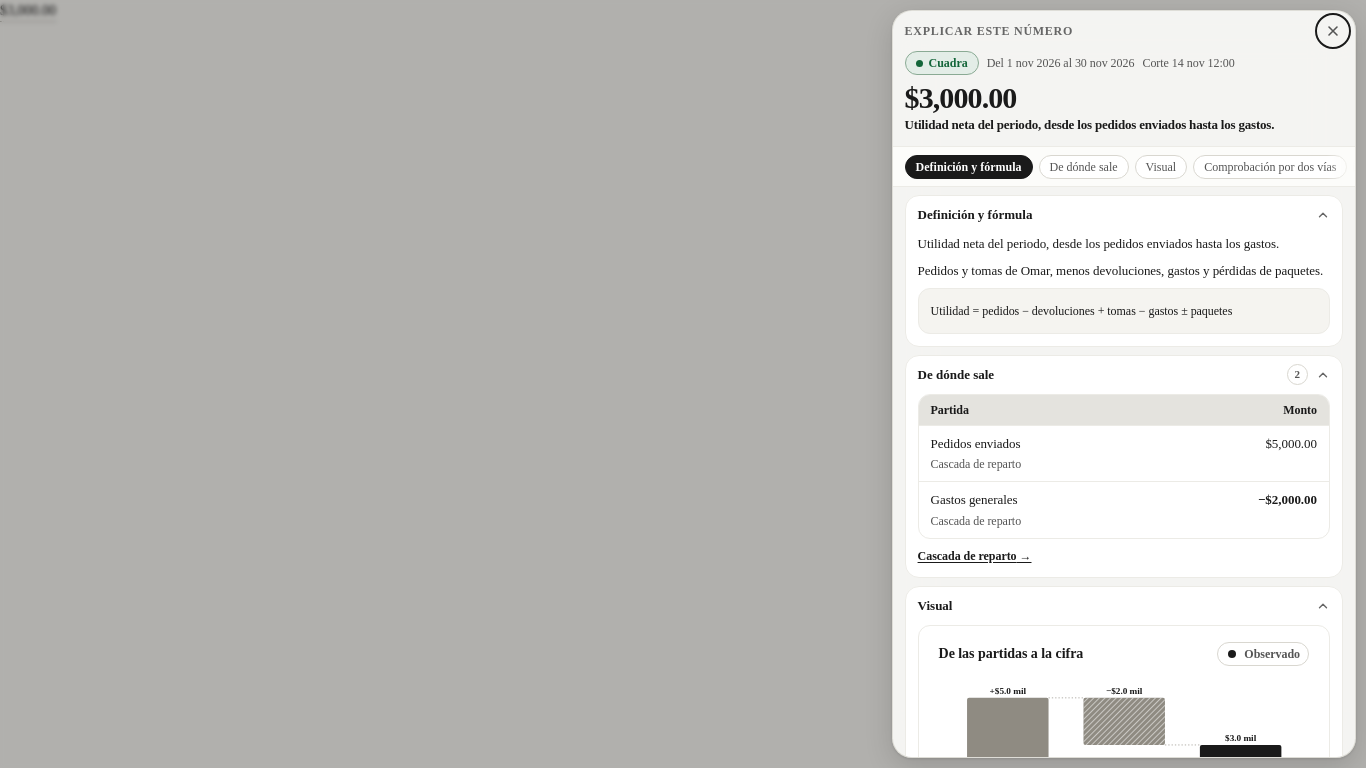
Test: ExplicarProvider (panel premium) › cada recuadro abre y cierra con su boton
Earlier steps of the test are not shown.
Later steps or results of the test are not shown.
Click the 3rd button with class "xp-seccion-b" at (935, 605), box [906,586,1342,624]
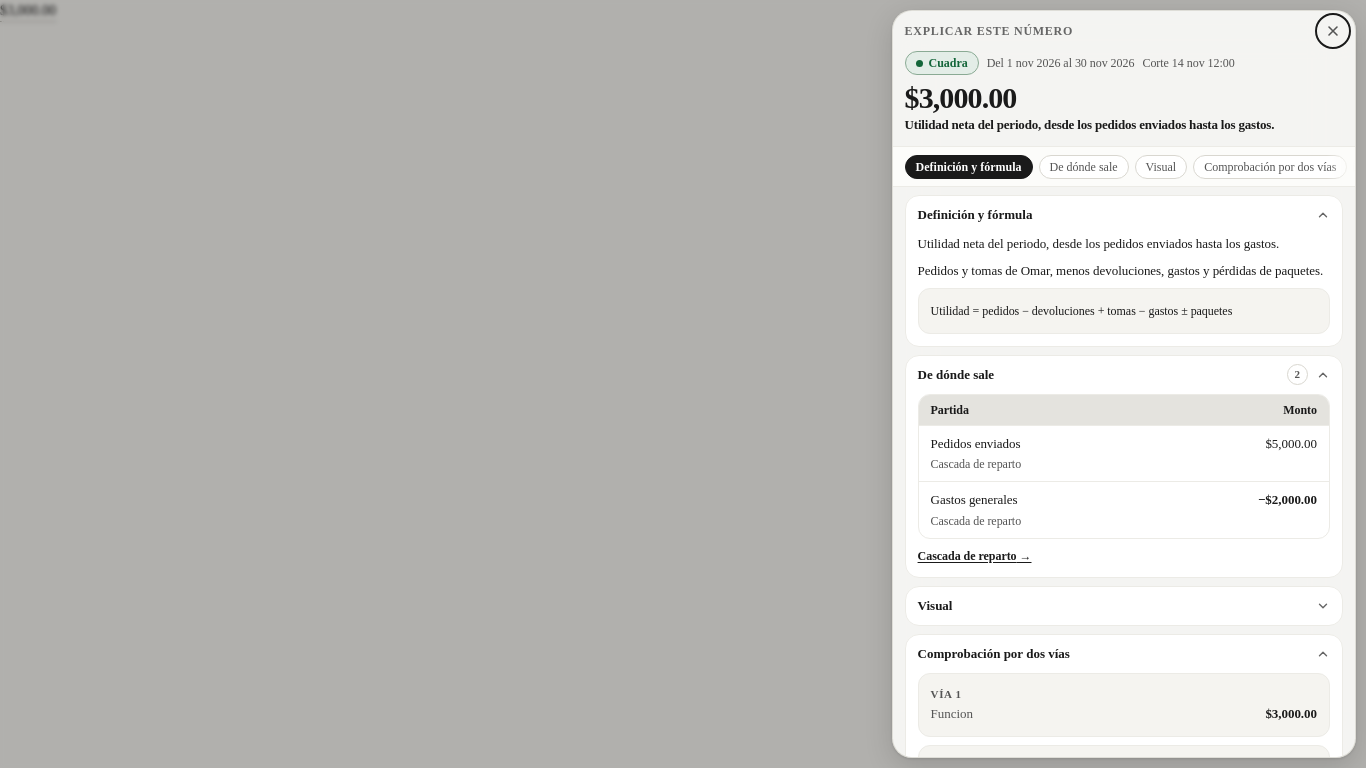
Expected: the 2nd button with class "xp-seccion-b" is collapsed, [906,586,1342,624]
Click the 4th button with class "xp-seccion-b" at (994, 653), box [906,634,1342,672]
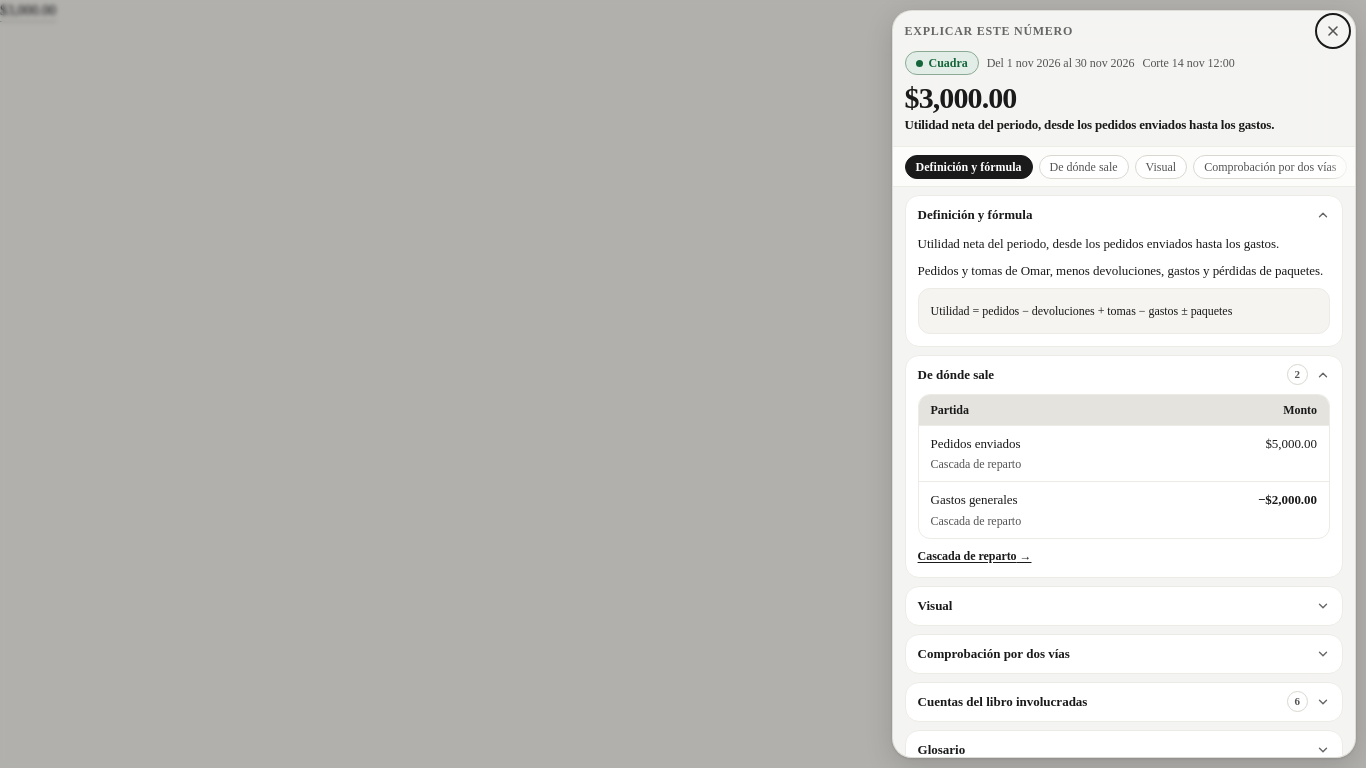
Expected: the 2nd button with class "xp-seccion-b" does not have attribute aria-expanded="true"
Click the 4th button with class "xp-seccion-b" at (994, 653), box [906,634,1342,672]
(page scrolled)
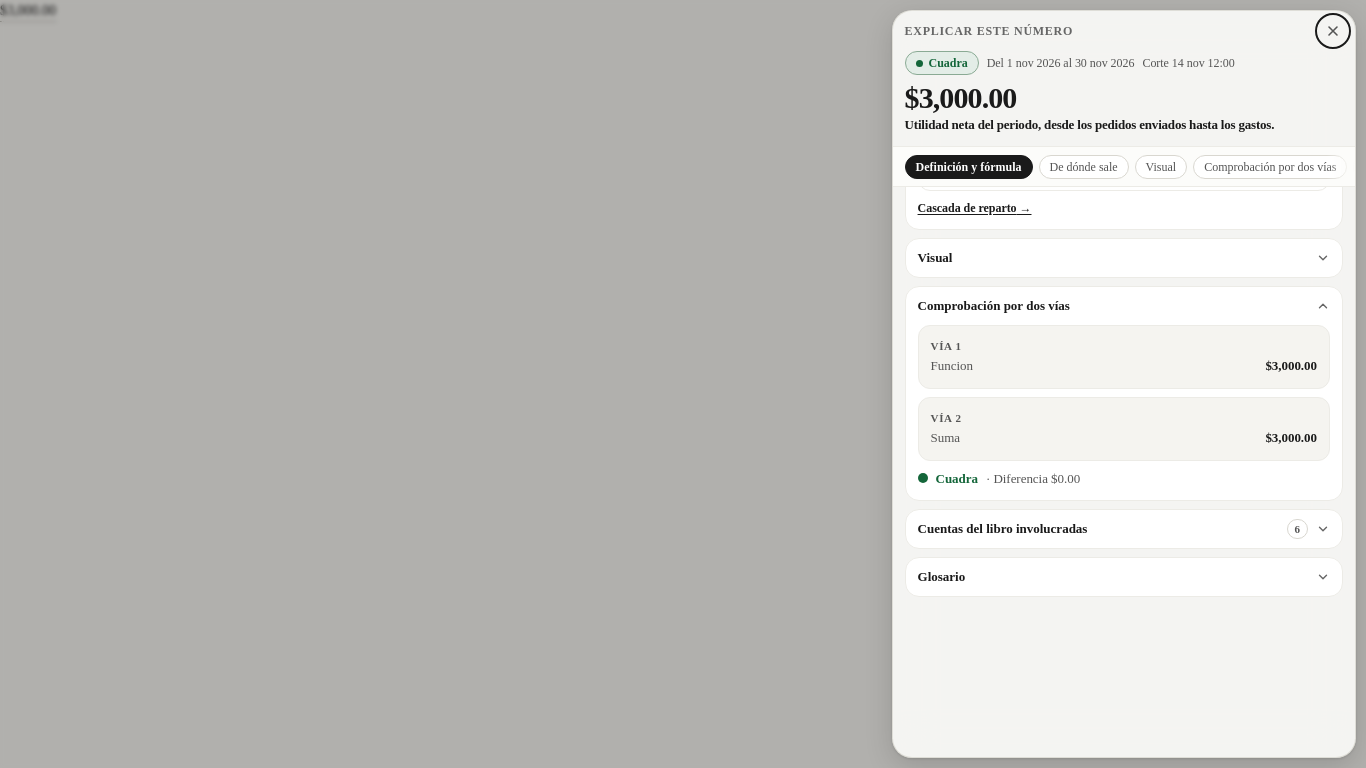
Expected: the 2nd button with class "xp-seccion-b" is expanded, [906,286,1342,324]
Click the button with class "xp-seccion-b" that starts with "Cuentas del libro involucradas" at (1002, 529), box [906,510,1342,548]
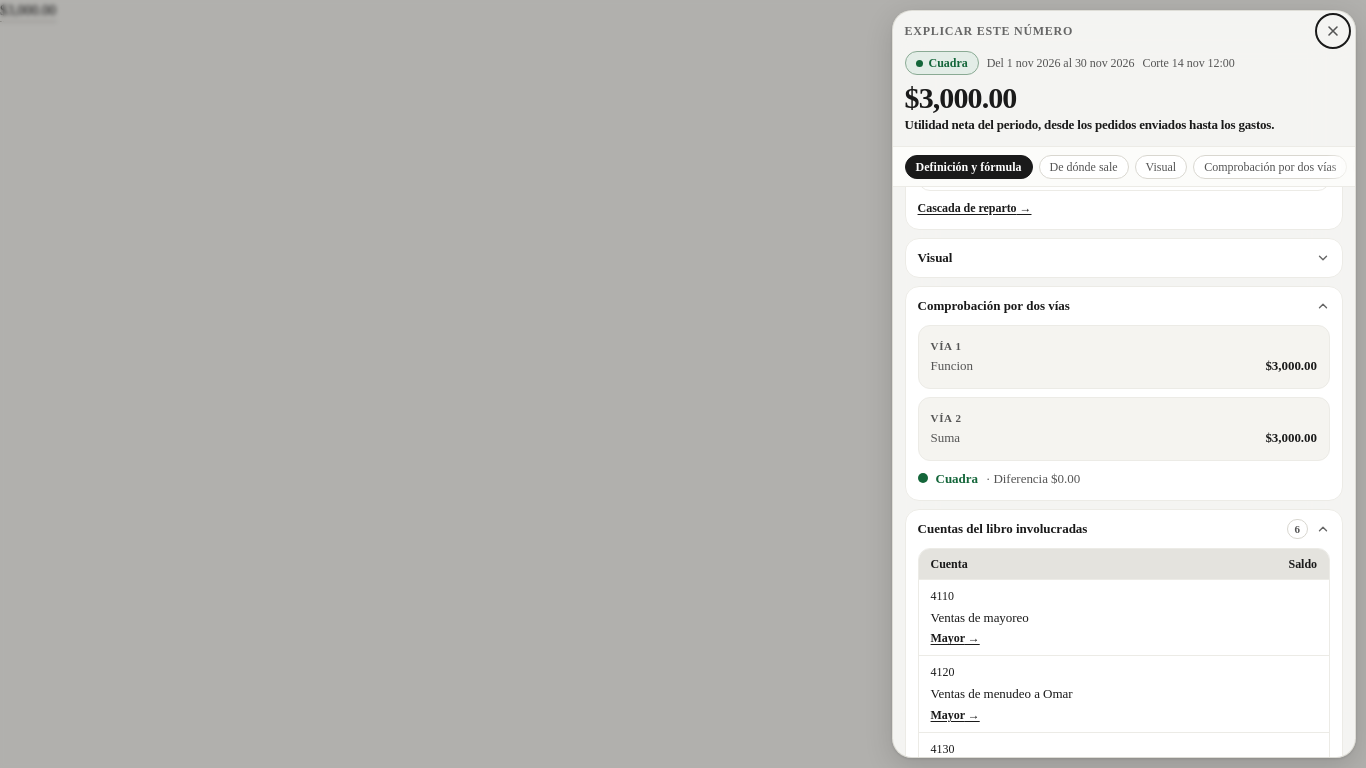
Expected: the button with class "xp-seccion-b" does not have attribute aria-expanded="false"
Click the button with class "xp-seccion-b" that starts with "Cuentas del libro involucradas" at (1002, 529), box [906,510,1342,548]
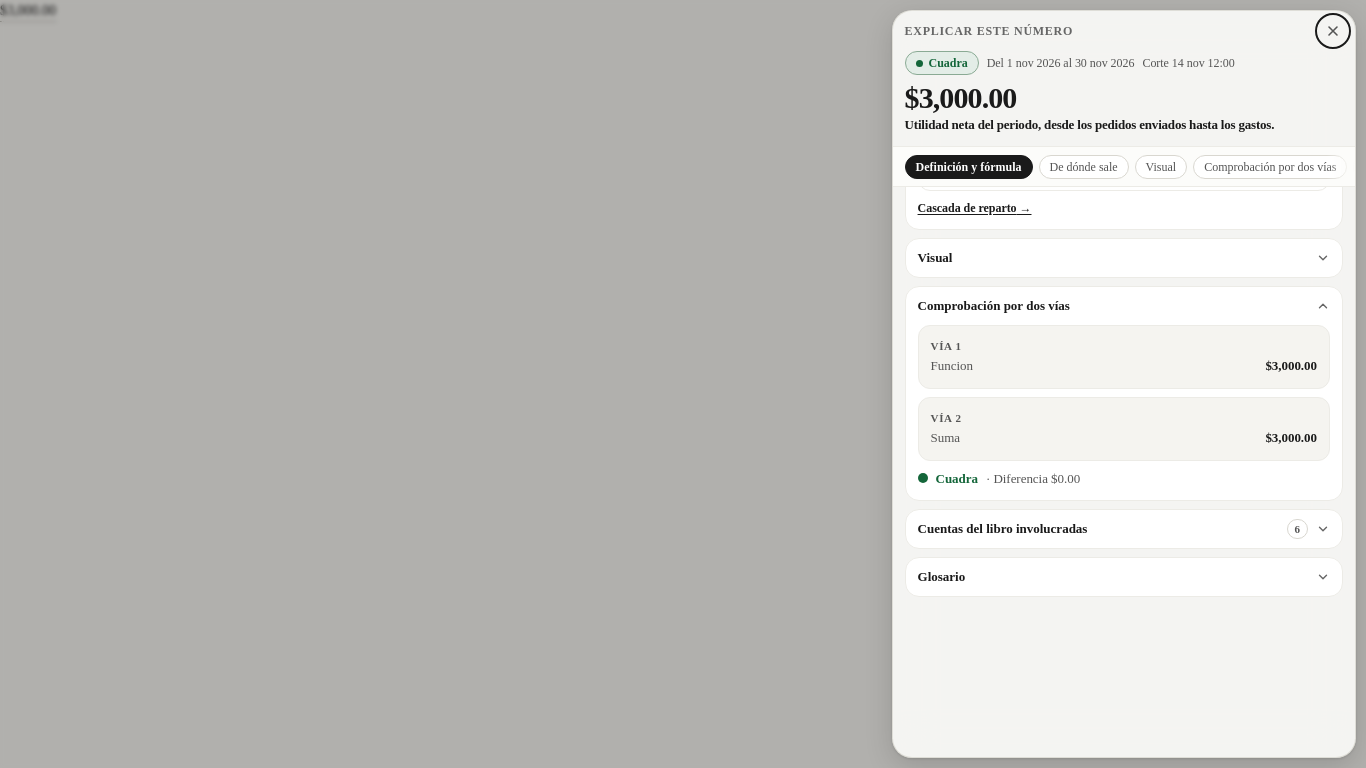
Expected: the button with class "xp-seccion-b" is collapsed, [906,510,1342,548]
Click the button with class "xp-seccion-b" showing "Glosario" at (941, 577), box [906,558,1342,596]
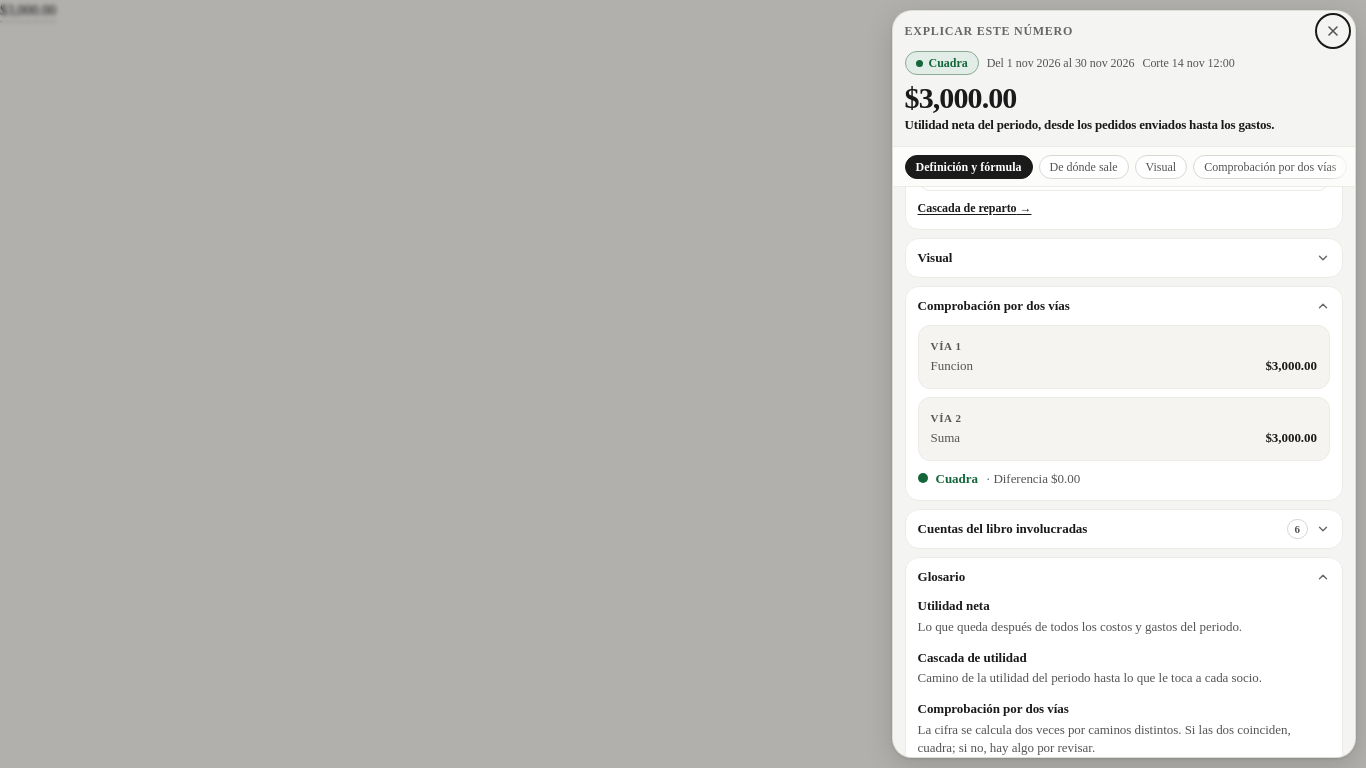
Expected: the button with class "xp-seccion-b" does not have attribute aria-expanded="false", [906,558,1342,596]
